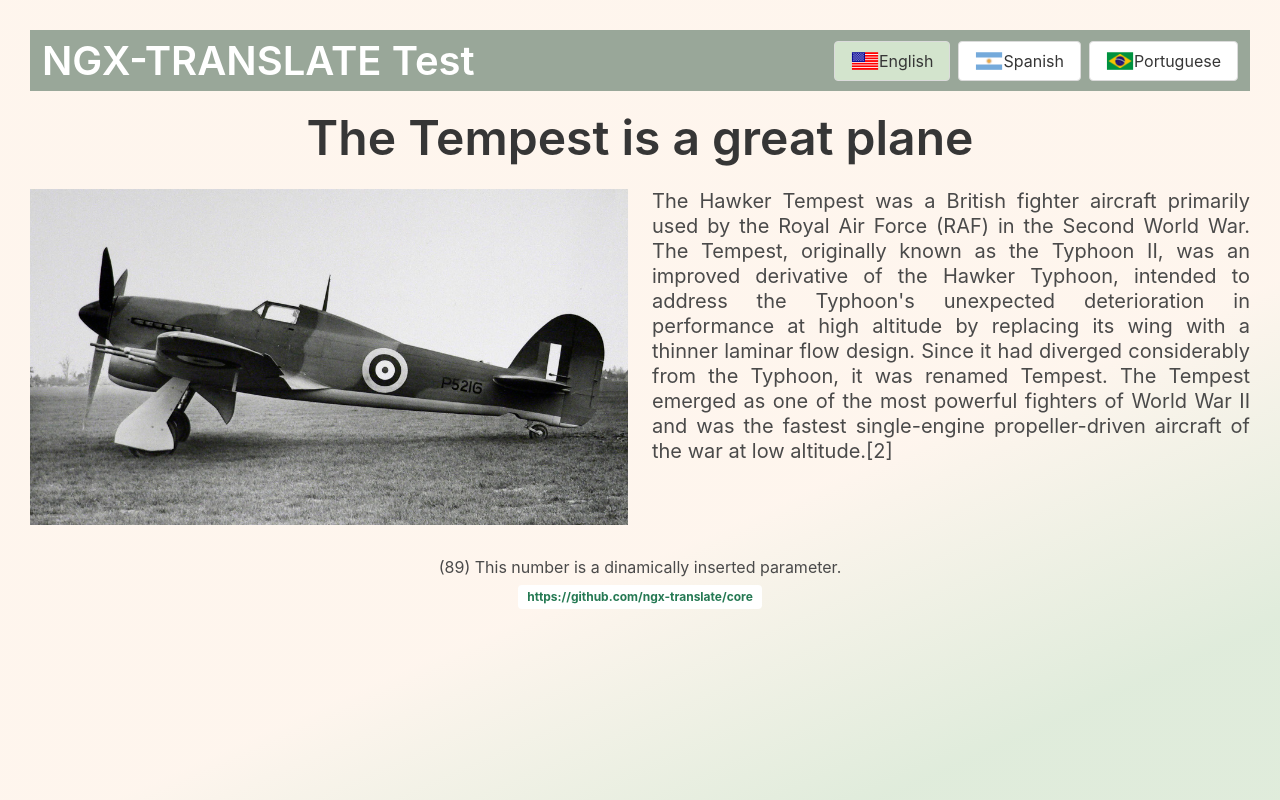
it: App simple test › Click the Portuguese language button
Click the button "Portuguese".
click(1164, 61)  # box [1089,41,1238,81]
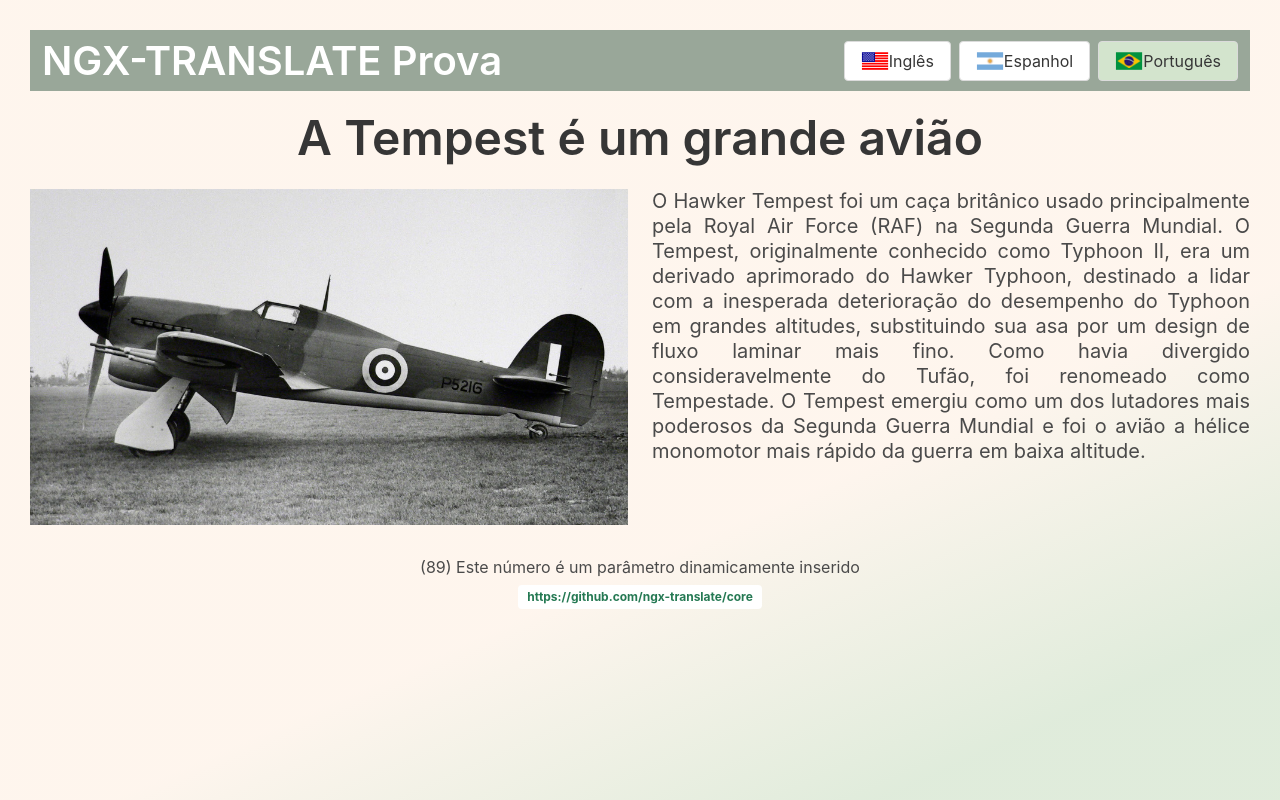
expect the text "A Tempest é um grande avião" is shown: met, box [297,108,983,167]
